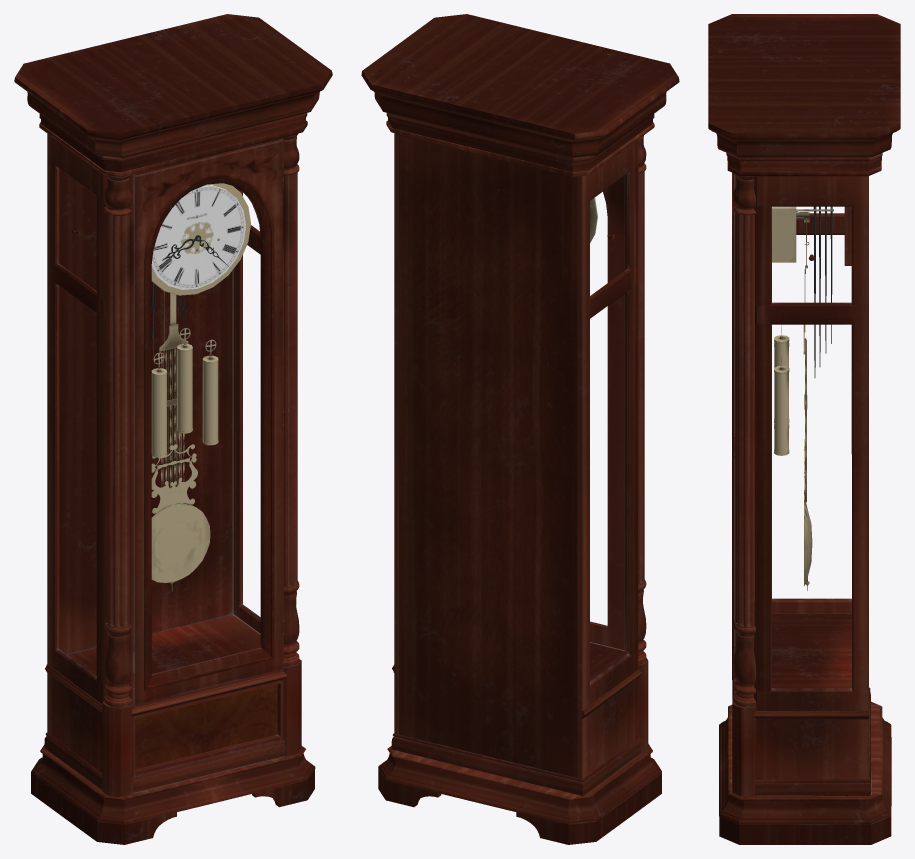
The model's file is test_compressed_clock.glb.
3 renders of one model, left to right at view 1: azimuth 30°, elevation 25°; view 2: azimuth 150°, elevation 25°; view 3: azimuth 270°, elevation 25°, orthographic.
Visible parts, largest first — view 1: defaultMaterial; view 2: defaultMaterial; view 3: defaultMaterial.
Part boxes in pixels (<box>): defaultMaterial: <box>14,14,332,844</box>; defaultMaterial: <box>361,14,679,844</box>; defaultMaterial: <box>708,14,900,844</box>.
Bounding box in the file's own units: 0.7155 × 2 × 0.4855.
2 materials, 2 textured.
